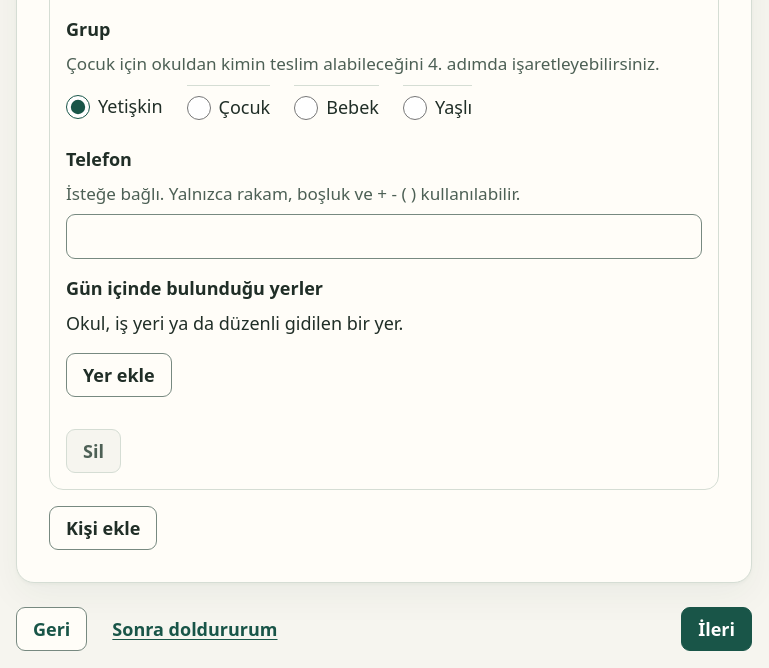
sihirbaz — gezinme ve adım göstergesi › "Geri" önceki adıma döner ve veri kaybettirmez
(page scrolled)
Step 1. Click the button "Geri" → (52, 630), box [16,608,87,652]
(page scrolled)
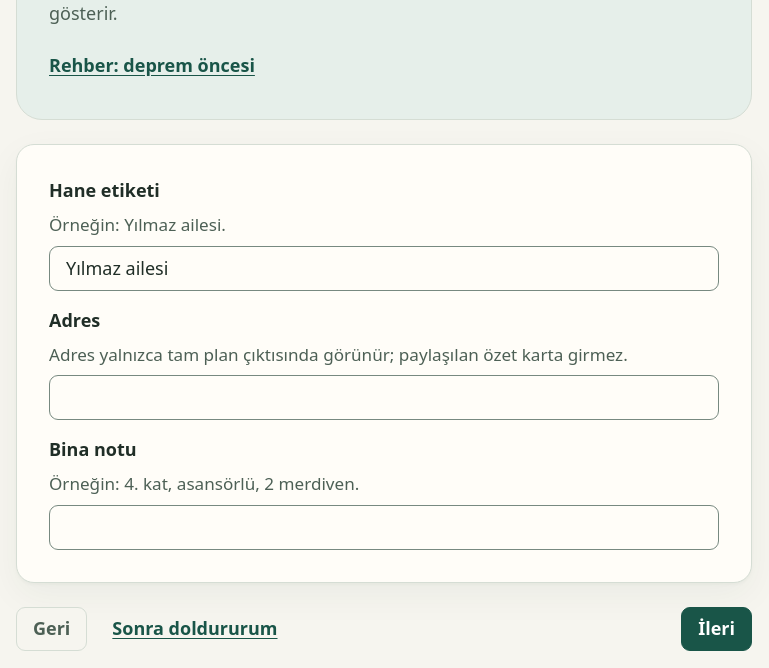
Expected: the field labelled "Hane etiketi" holds "Yılmaz ailesi", [49,246,719,291]
